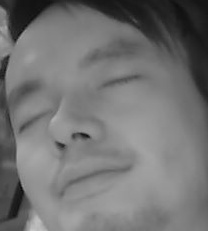blink: (96, 73, 139, 94), (18, 109, 53, 131)
mouth: (52, 154, 131, 200)
